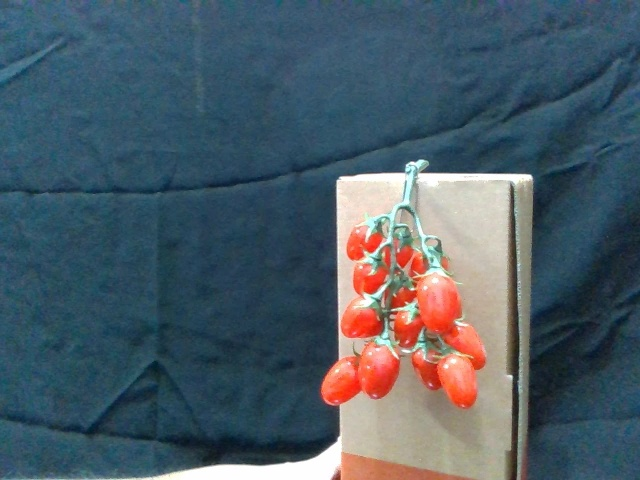tomato: (417, 263, 461, 333), (318, 352, 365, 406), (438, 350, 479, 411), (444, 316, 491, 369), (362, 337, 399, 400), (341, 294, 387, 337), (412, 338, 449, 391), (347, 217, 387, 263), (390, 301, 425, 351), (354, 252, 390, 295)
